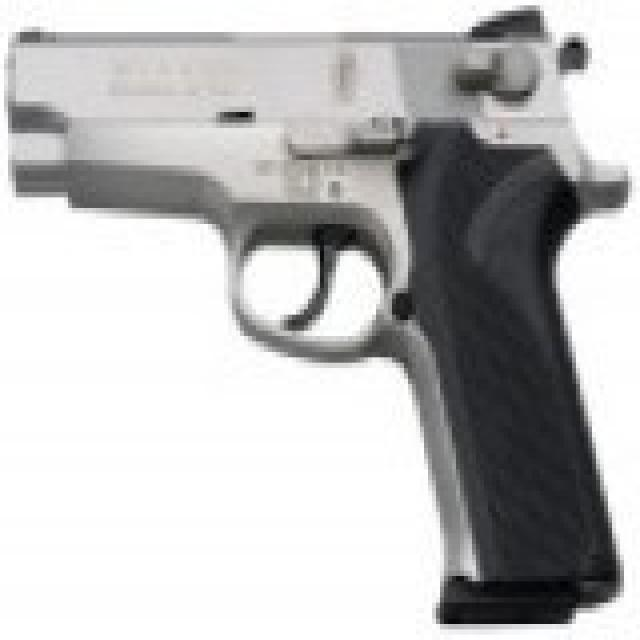gun: (4, 11, 632, 619)
